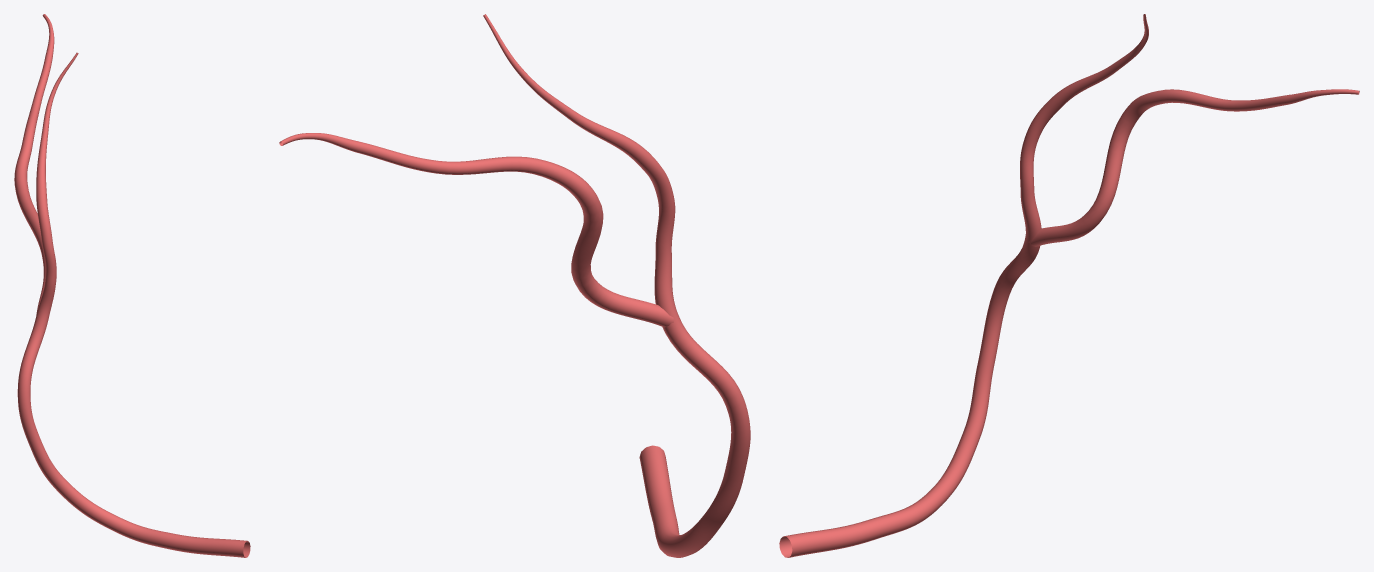
File: Artery_of_postcentral_sulcus.r_BezierCurve.104.glb
The picture shows the model from 3 angles, left to right: view 1: azimuth 30°, elevation 25°; view 2: azimuth 150°, elevation 25°; view 3: azimuth 270°, elevation 25°; orthographic projection. The views are drawn at different scales.
Visible parts, largest first — view 1: Artery_of_postcentral_sulcus.r_BezierCurve.104; view 2: Artery_of_postcentral_sulcus.r_BezierCurve.104; view 3: Artery_of_postcentral_sulcus.r_BezierCurve.104.
Boxes of the visible parts, <box> form: Artery_of_postcentral_sulcus.r_BezierCurve.104: <box>14,14,250,557</box>; Artery_of_postcentral_sulcus.r_BezierCurve.104: <box>279,14,750,557</box>; Artery_of_postcentral_sulcus.r_BezierCurve.104: <box>779,14,1359,557</box>.
Size of the model in its own units: 0.0179 by 0.0423 by 0.0417.
